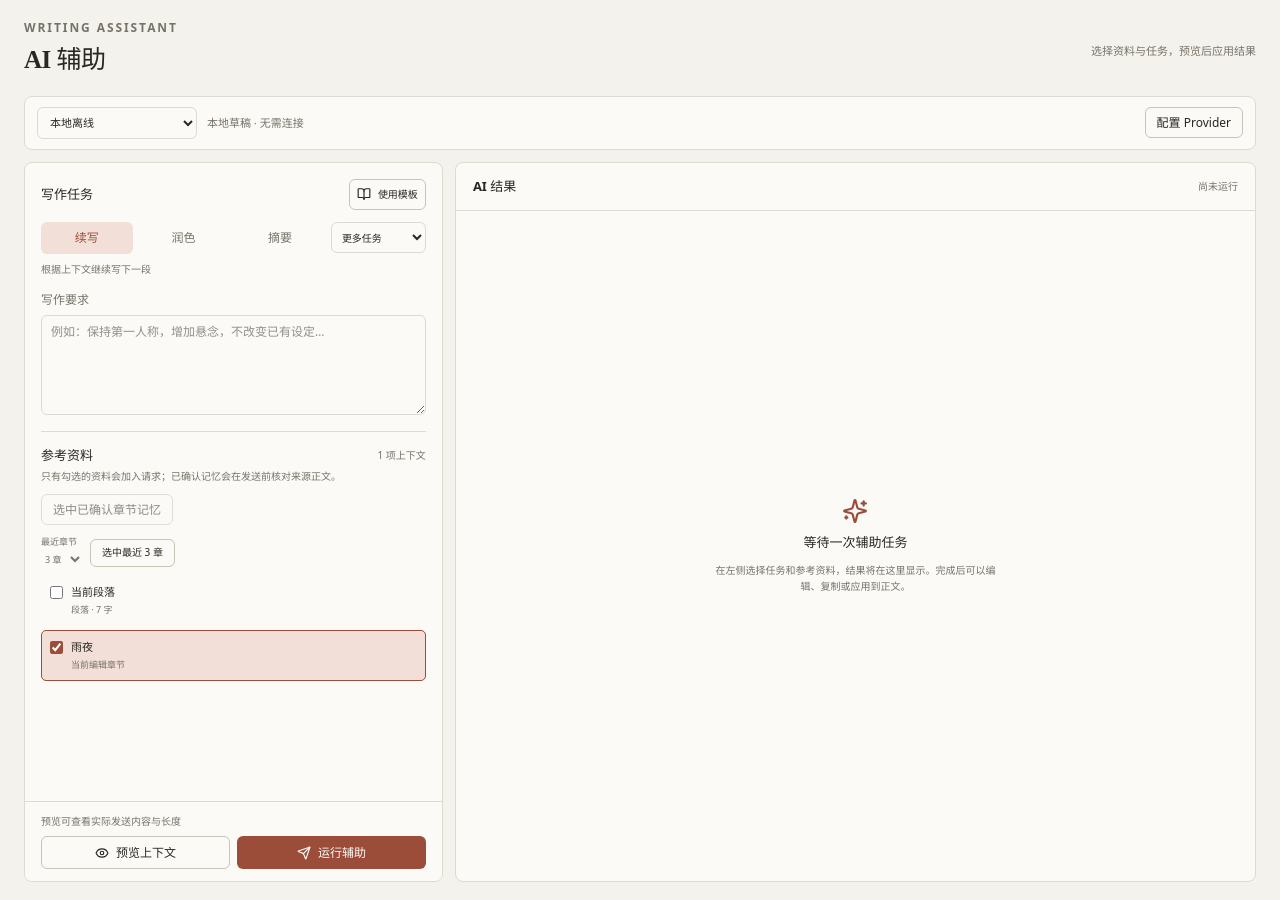
Test: puts writing and results first and opens templates only on demand
This screenshot has width=1280, height=900.
expect the element named "写作任务与参考资料" is shown: met, box [24,162,443,882]
expect the element named "AI 结果工作区" is shown: met, box [455,162,1256,882]
Click the button "使用模板" at (387, 194), box [349,179,426,210]
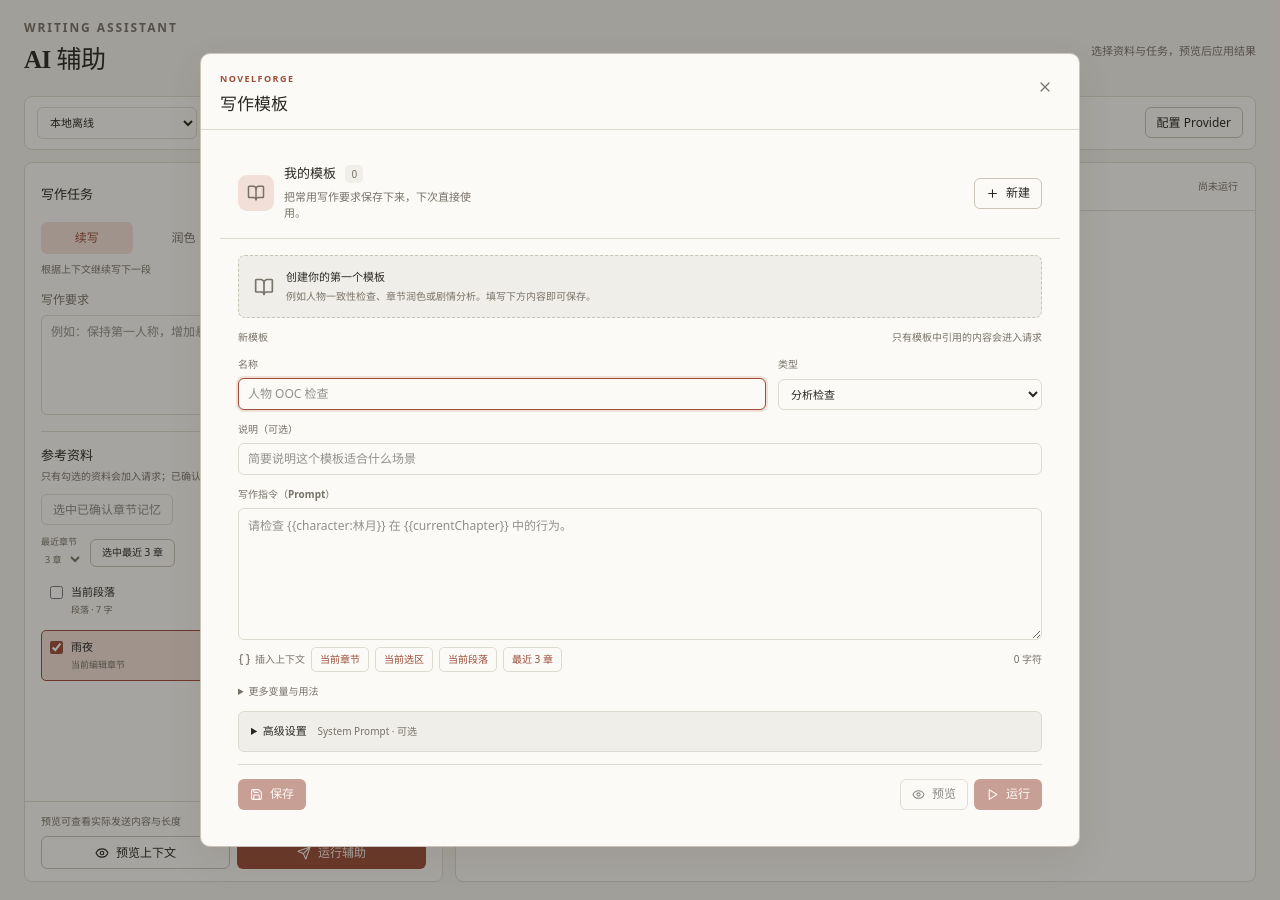
expect the dialog "写作模板" is shown: met
